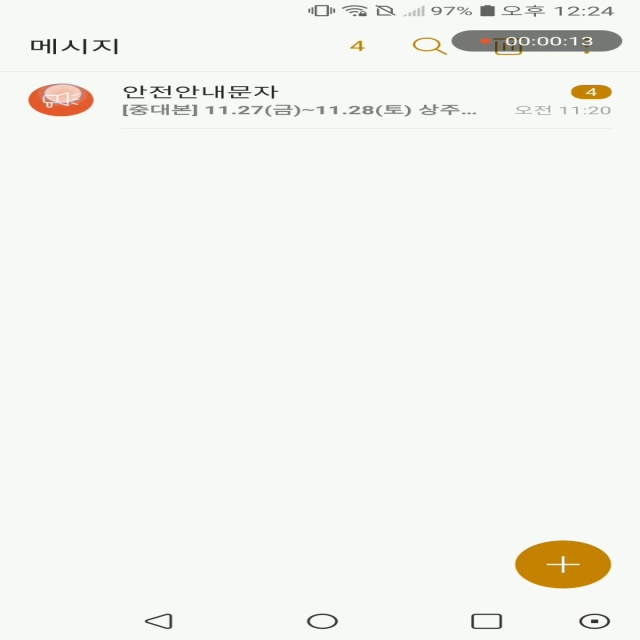Cursor: (42, 84, 87, 106)
